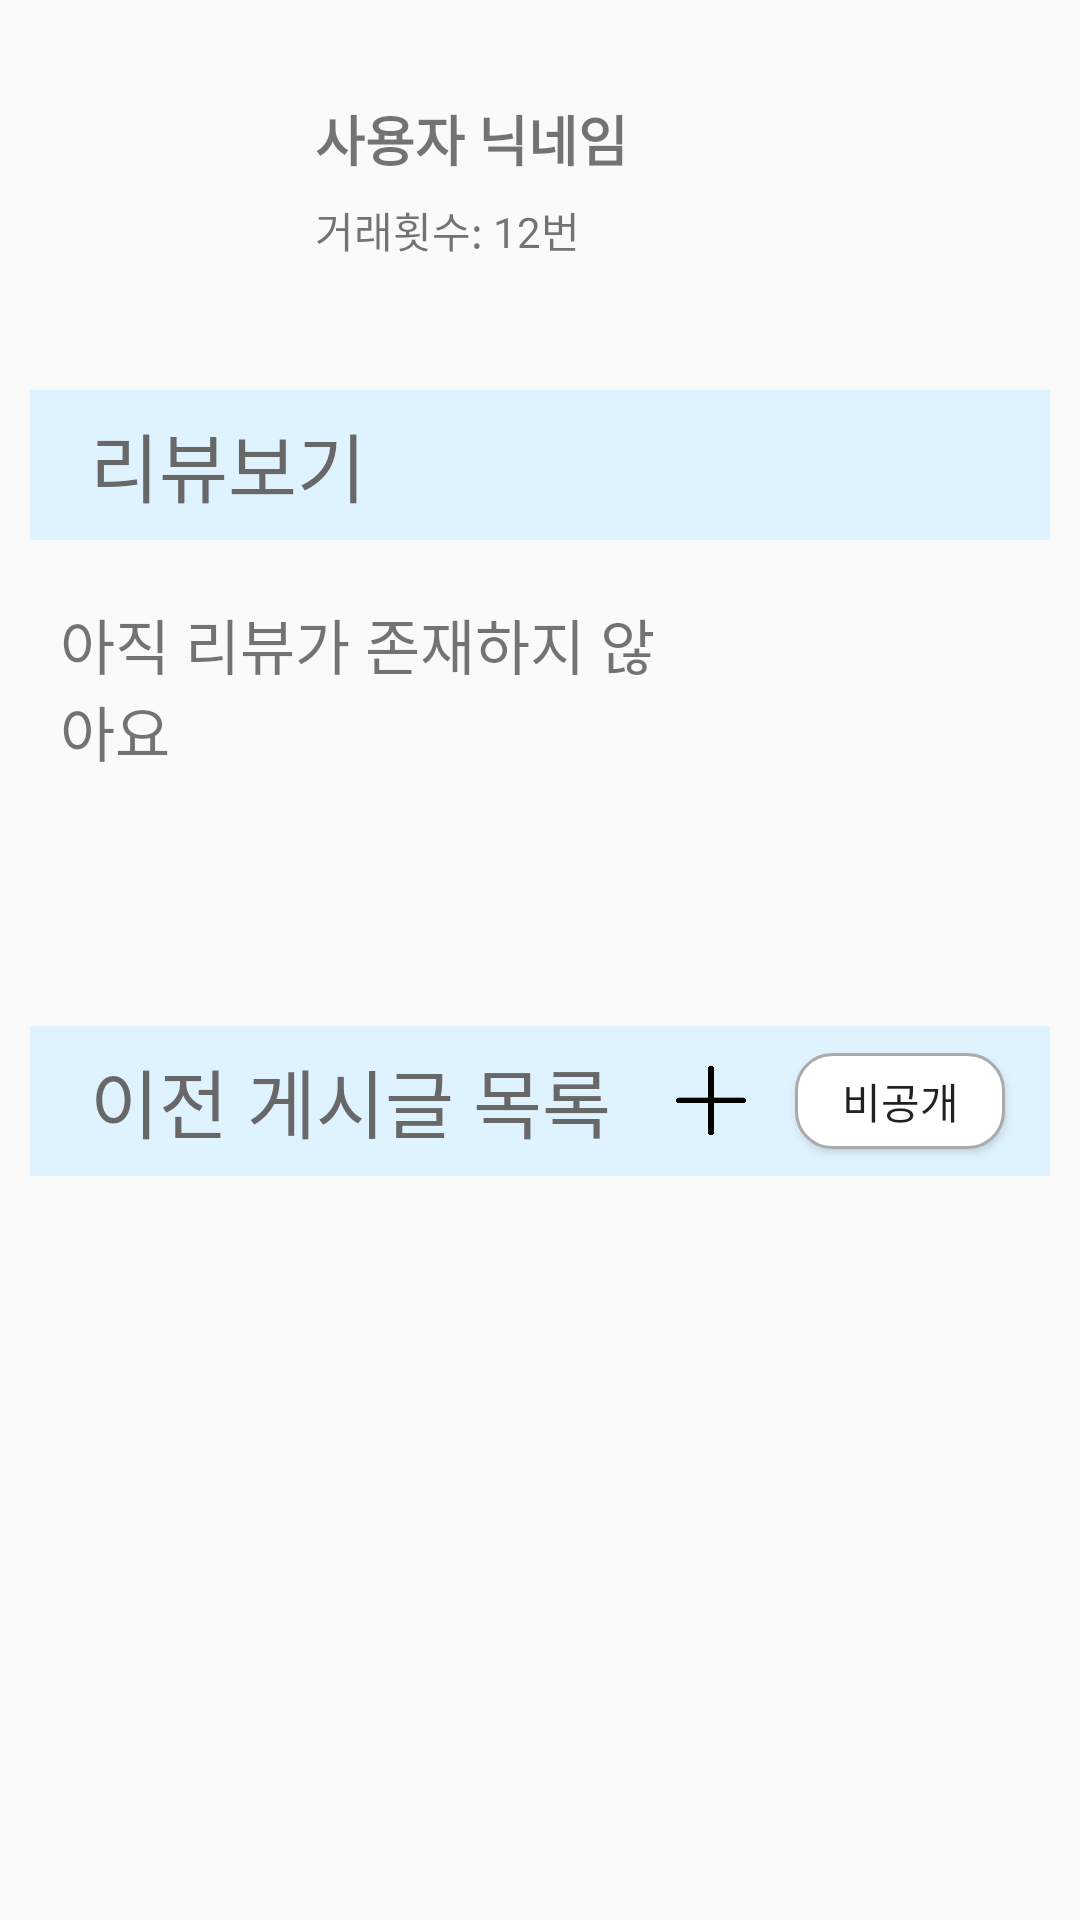

Locate icon controls on the screen. Image size 1080px x 1920px, boxes as (x1, y1, x2, y2).
more: (676, 1065, 746, 1135)
